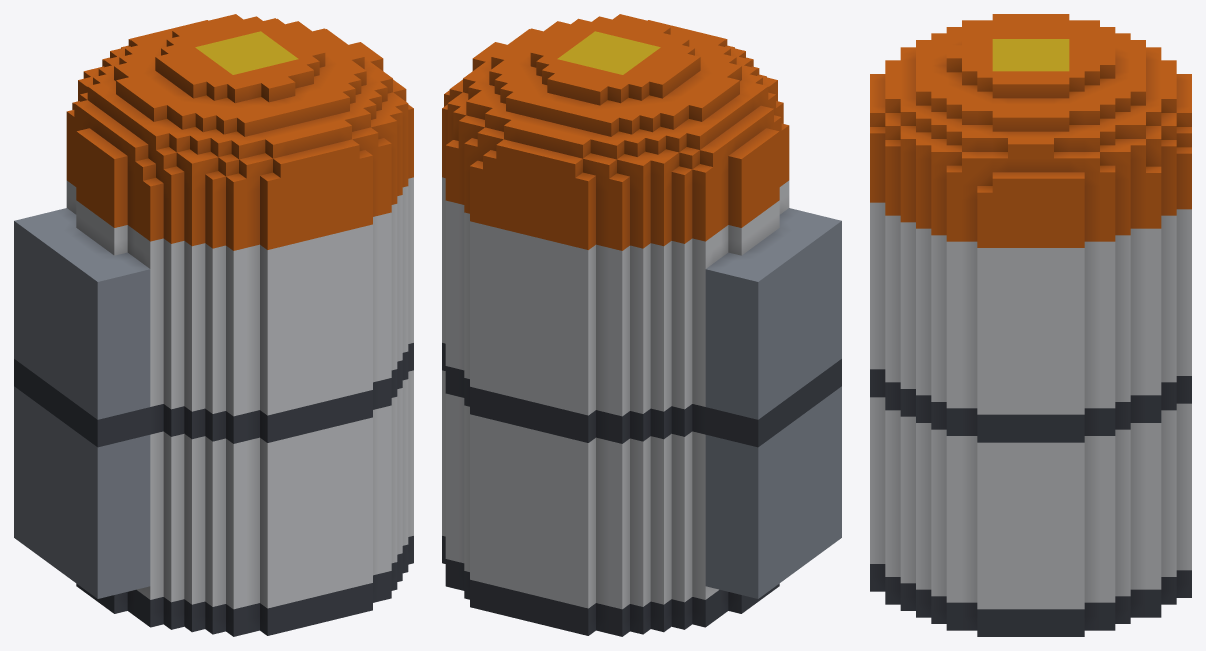
File: parachute_drogue.glb
3 renders of one model, left to right at view 1: azimuth 30°, elevation 25°; view 2: azimuth 150°, elevation 25°; view 3: azimuth 270°, elevation 25°, orthographic.
Parts seen in each view (by area): view 1: parachute_drogue; view 2: parachute_drogue; view 3: parachute_drogue.
Boxes of the visible parts, x1=… form: parachute_drogue: x1=14, y1=14, x2=413, y2=636; parachute_drogue: x1=442, y1=14, x2=841, y2=636; parachute_drogue: x1=870, y1=14, x2=1191, y2=636.
Size of the model in its own units: 0.3906 by 0.5781 by 0.3281.
